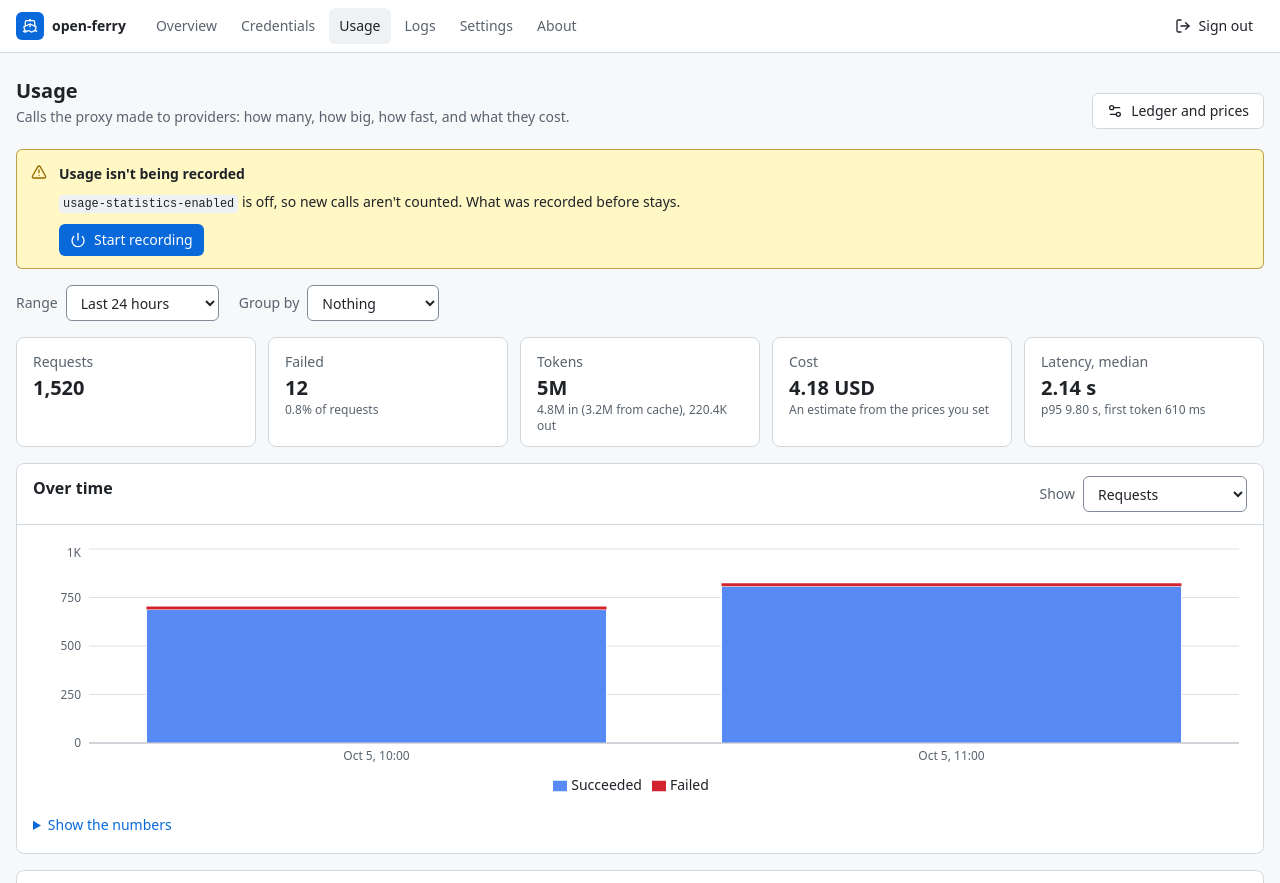
Test: the Usage page › starts recording when it is off
Expected: the text "Usage isn't being recorded" is shown, [59,164,245,183]
Click the button "Start recording" at (131, 240), box [59,224,204,256]
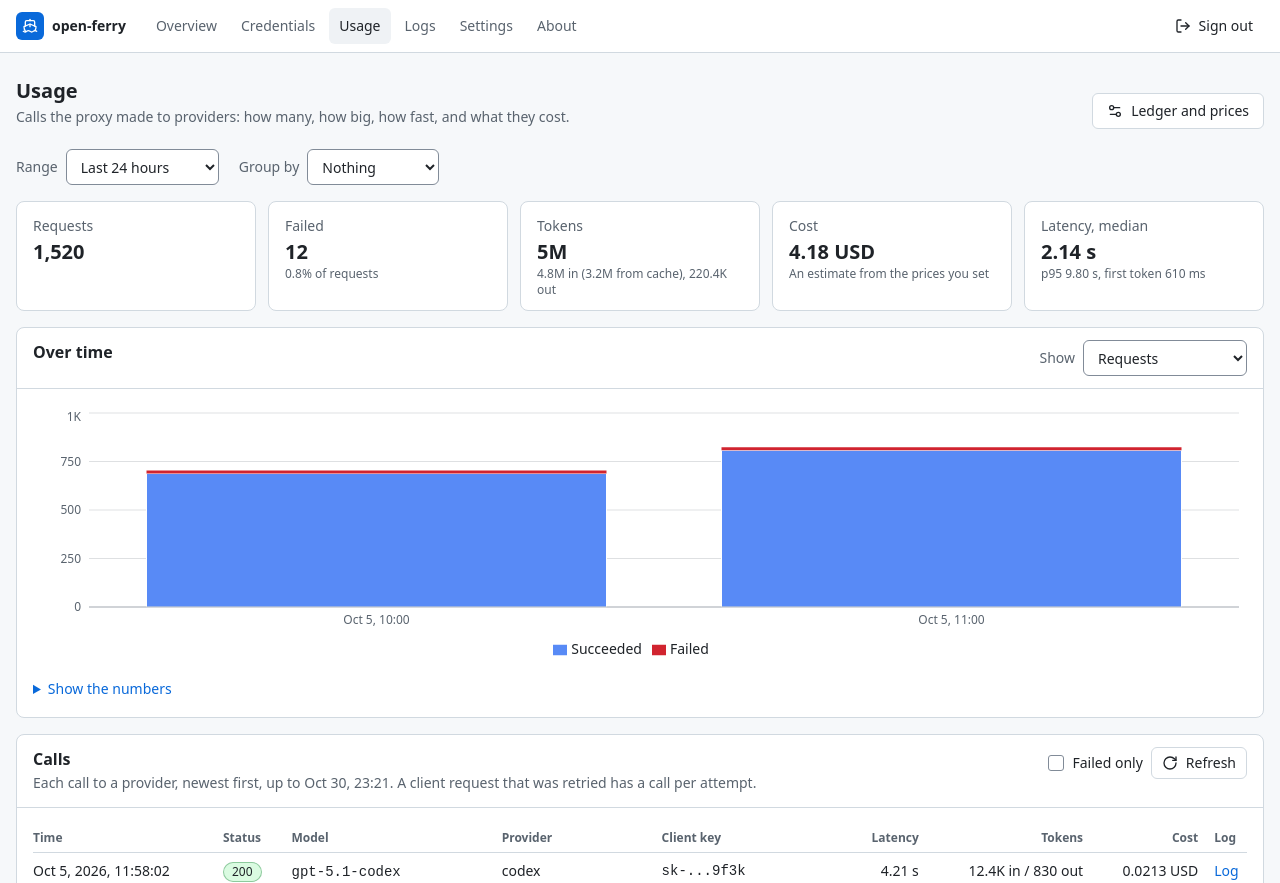
Now the text "Usage isn't being recorded" is gone
